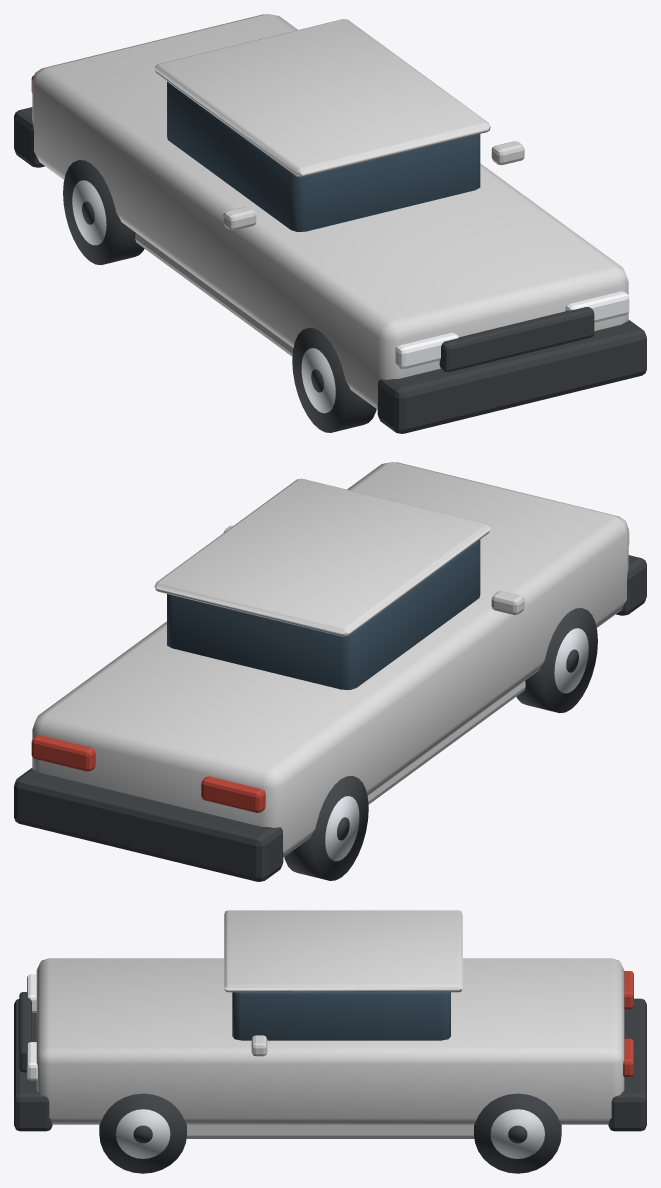
The model's file is sedan.glb.
3 views of the same model, one above another, from view 1: azimuth 30°, elevation 25°; view 2: azimuth 150°, elevation 25°; view 3: azimuth 270°, elevation 25° (orthographic). The views are drawn at different scales.
Visible parts, largest first — view 1: body, roof, cabin, bumper_f, grille, tire, tire.001, skirt, rim, rim.001, hl, hl.001 (+3 smaller); view 2: body, roof, cabin, bumper_r, tire.001, tire, skirt, tl, tl.001, rim.001, rim, bumper_f (+1 smaller); view 3: body, roof, cabin, skirt, tire.002, tire.003, bumper_r, bumper_f, rim.002, rim.003, grille, hl.001 (+1 smaller).
Boxes of the visible parts, x1=… form: body: x1=32, y1=14, x2=628, y2=409; roof: x1=154, y1=19, x2=490, y2=177; cabin: x1=167, y1=81, x2=480, y2=231; bumper_f: x1=377, y1=320, x2=646, y2=433; grille: x1=439, y1=307, x2=594, y2=372; tire: x1=292, y1=328, x2=376, y2=432; tire.001: x1=63, y1=160, x2=144, y2=264; skirt: x1=135, y1=233, x2=293, y2=356; rim: x1=301, y1=348, x2=335, y2=413; rim.001: x1=72, y1=180, x2=106, y2=245; hl: x1=395, y1=332, x2=458, y2=369; hl.001: x1=565, y1=291, x2=629, y2=322; body: x1=32, y1=462, x2=628, y2=857; roof: x1=154, y1=478, x2=490, y2=636; cabin: x1=167, y1=540, x2=480, y2=689; bumper_r: x1=14, y1=768, x2=283, y2=881; tire.001: x1=284, y1=776, x2=368, y2=880; tire: x1=516, y1=608, x2=597, y2=712; skirt: x1=367, y1=681, x2=525, y2=804; tl: x1=201, y1=776, x2=265, y2=812; tl.001: x1=31, y1=735, x2=95, y2=771; rim.001: x1=325, y1=796, x2=359, y2=861; rim: x1=554, y1=628, x2=588, y2=693; bumper_f: x1=616, y1=555, x2=646, y2=615; body: x1=36, y1=958, x2=624, y2=1124; roof: x1=224, y1=910, x2=462, y2=992; cabin: x1=232, y1=992, x2=450, y2=1040; skirt: x1=186, y1=1124, x2=474, y2=1138; tire.002: x1=99, y1=1093, x2=186, y2=1173; tire.003: x1=474, y1=1093, x2=561, y2=1173; bumper_r: x1=608, y1=998, x2=646, y2=1131; bumper_f: x1=14, y1=999, x2=52, y2=1131; rim.002: x1=116, y1=1109, x2=170, y2=1158; rim.003: x1=490, y1=1109, x2=544, y2=1158; grille: x1=19, y1=992, x2=31, y2=1072; hl.001: x1=27, y1=1042, x2=37, y2=1080.
Bounding box in the file's own units: 2.16 × 1.5 × 4.9.
